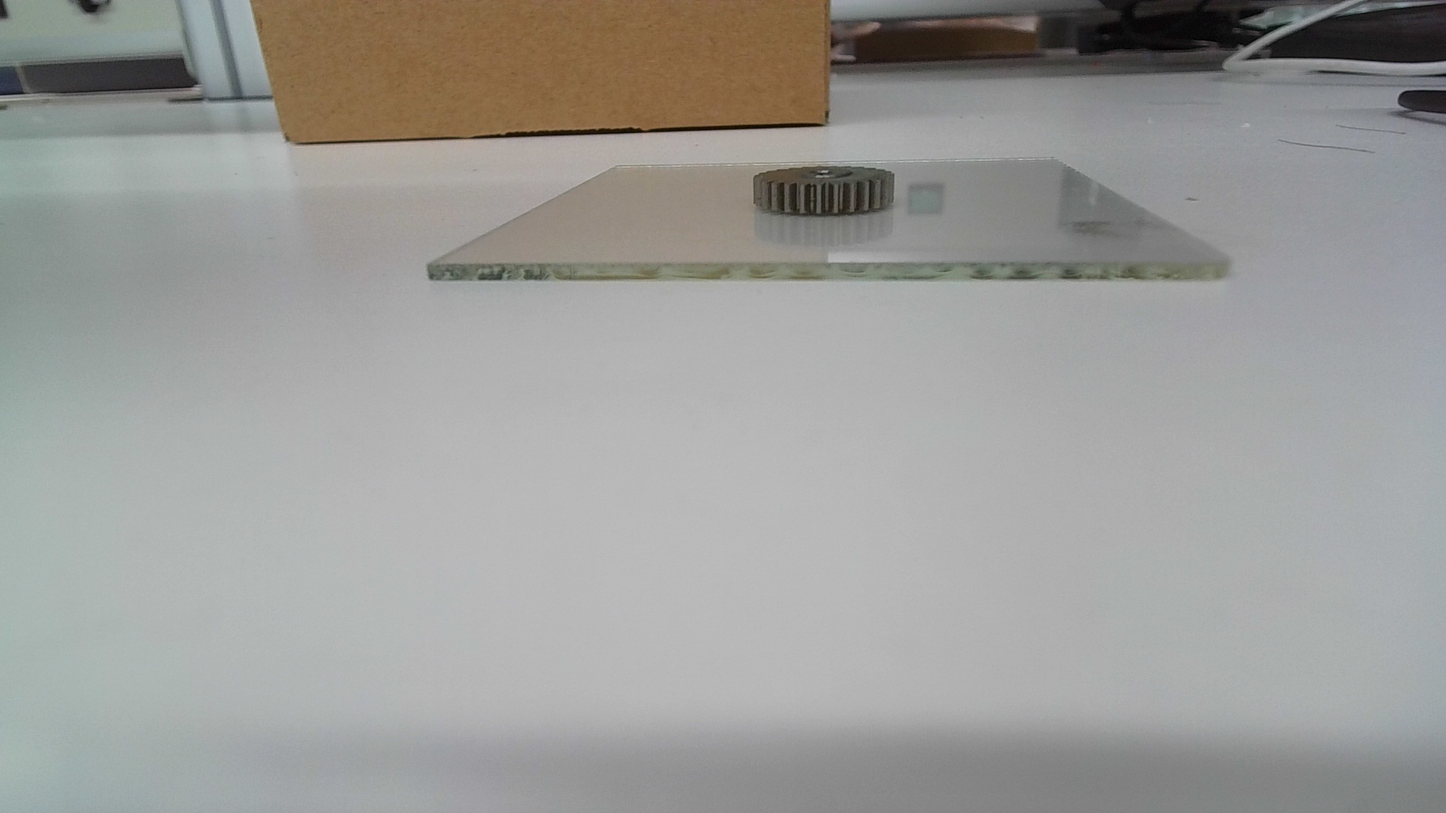gear: (748, 164, 900, 217)
